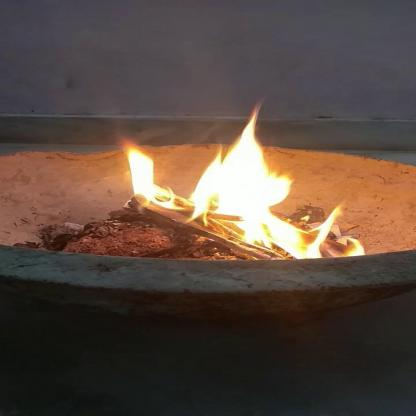fire: (99, 108, 379, 264)
